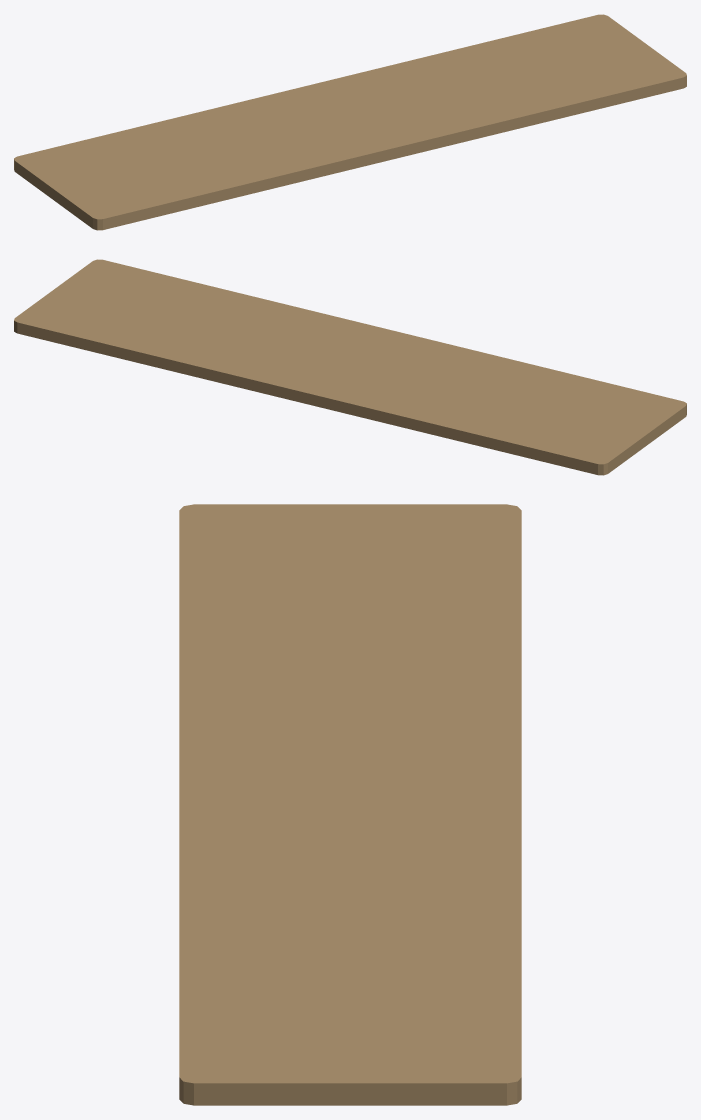
Rendered from wood_plank.glb.
The picture shows the model from 3 angles, top to bottom: view 1: azimuth 30°, elevation 25°; view 2: azimuth 150°, elevation 25°; view 3: azimuth 270°, elevation 25°; orthographic projection. The views are drawn at different scales.
Visible parts, largest first — view 1: wood_plank; view 2: wood_plank; view 3: wood_plank.
Boxes of the visible parts, <box> form: wood_plank: <box>14,14,686,230</box>; wood_plank: <box>14,259,686,475</box>; wood_plank: <box>179,504,521,1105</box>.
Bounding box in the file's own units: 1.4 × 0.025 × 0.35.
